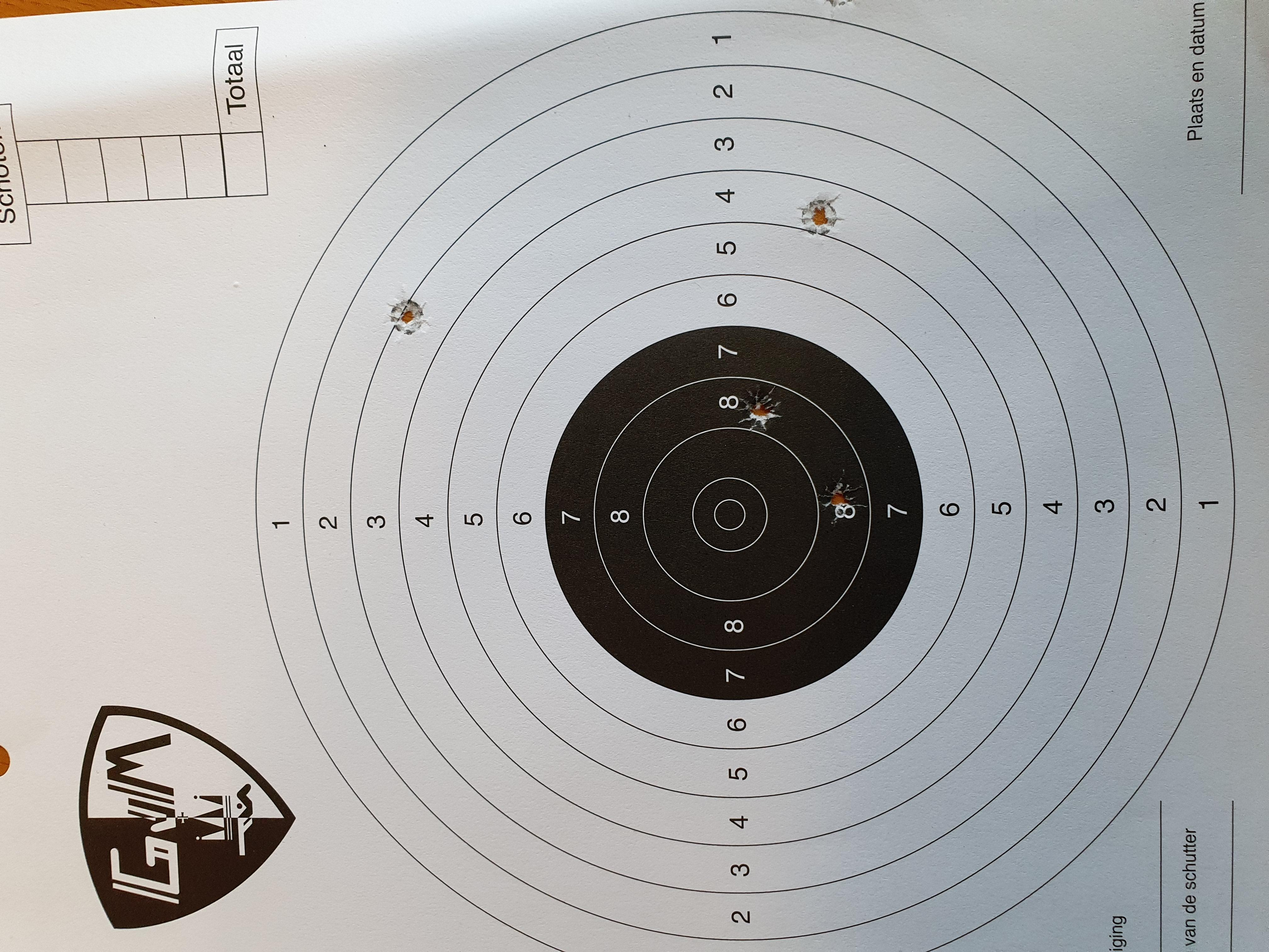hole: (571, 616, 639, 650), (948, 596, 1014, 630), (690, 553, 755, 587), (818, 289, 873, 322), (1257, 618, 1268, 642)
